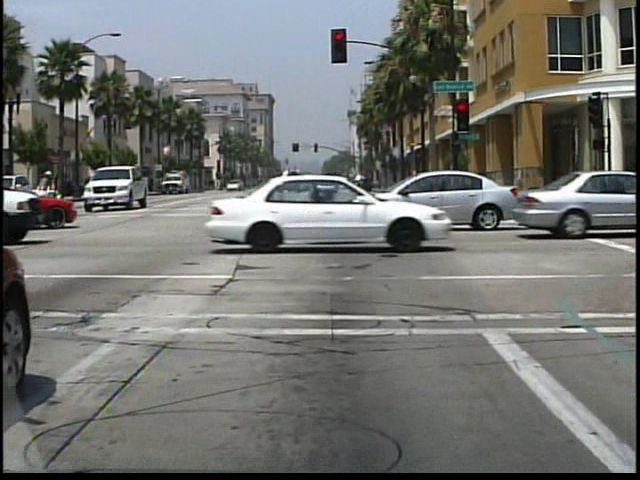person: (38, 167, 64, 214)
